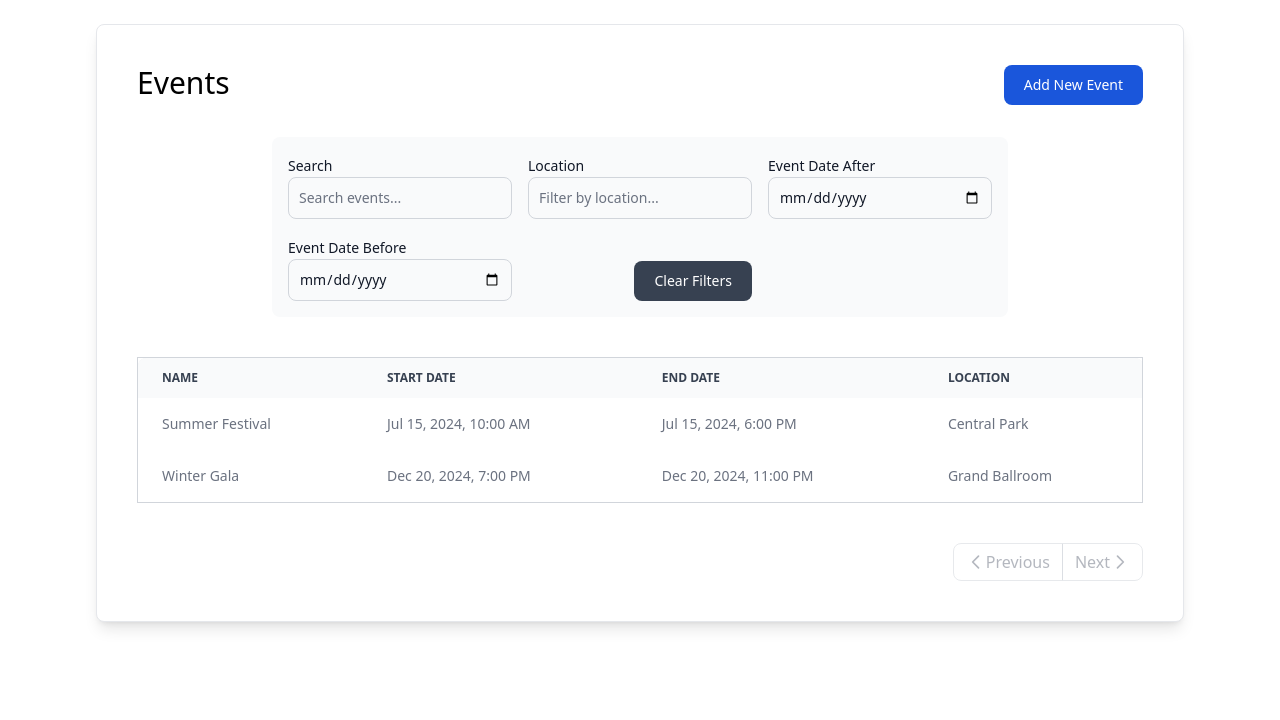
Scenario: Events Page › applies location filter and updates the table
Expected: the text "Winter Gala" is shown, [138,450,363,502]
Type "Central" into the field with placeholder "Filter by location...". click: [640, 198]
box: [528,177,752,219]
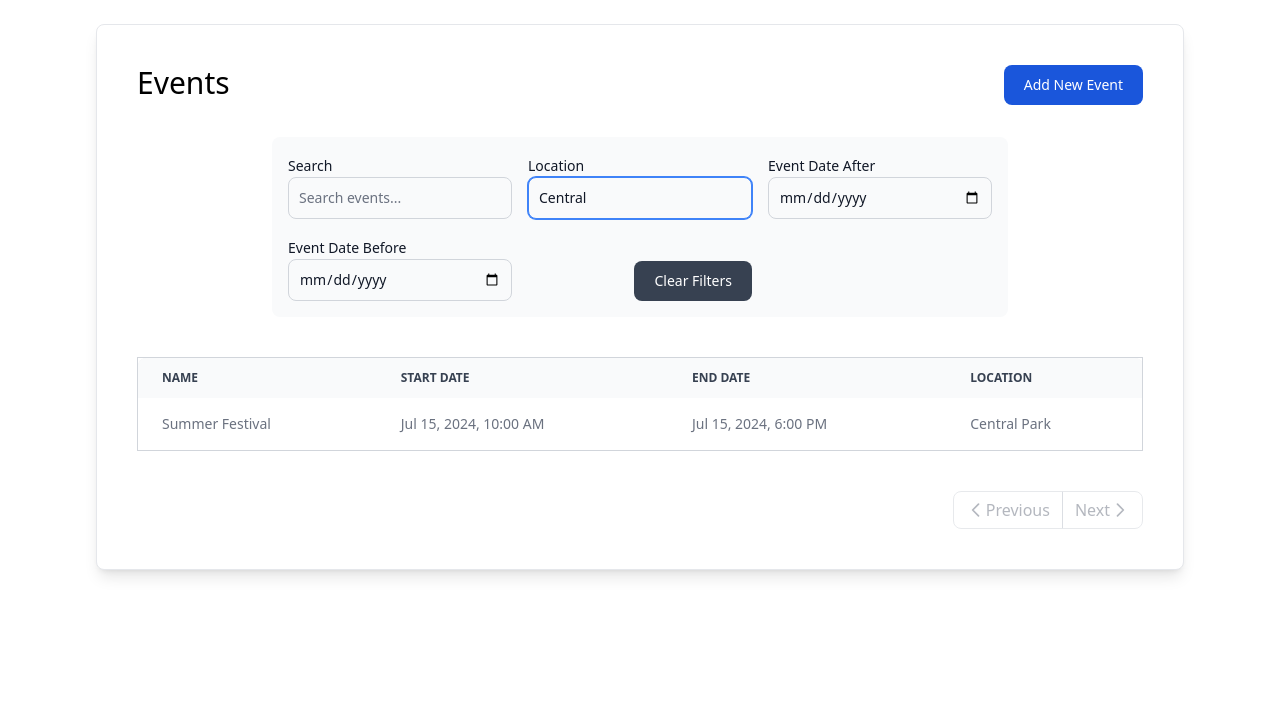
Expected: the text "Summer Festival" is shown, [138,398,377,450]
Result: the text "Winter Gala" is gone
